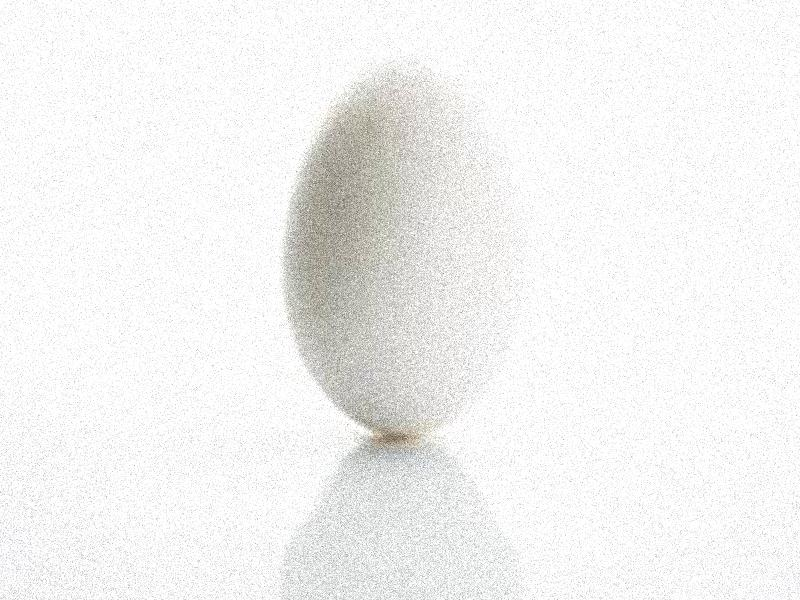Eggs: (282, 59, 518, 436)
